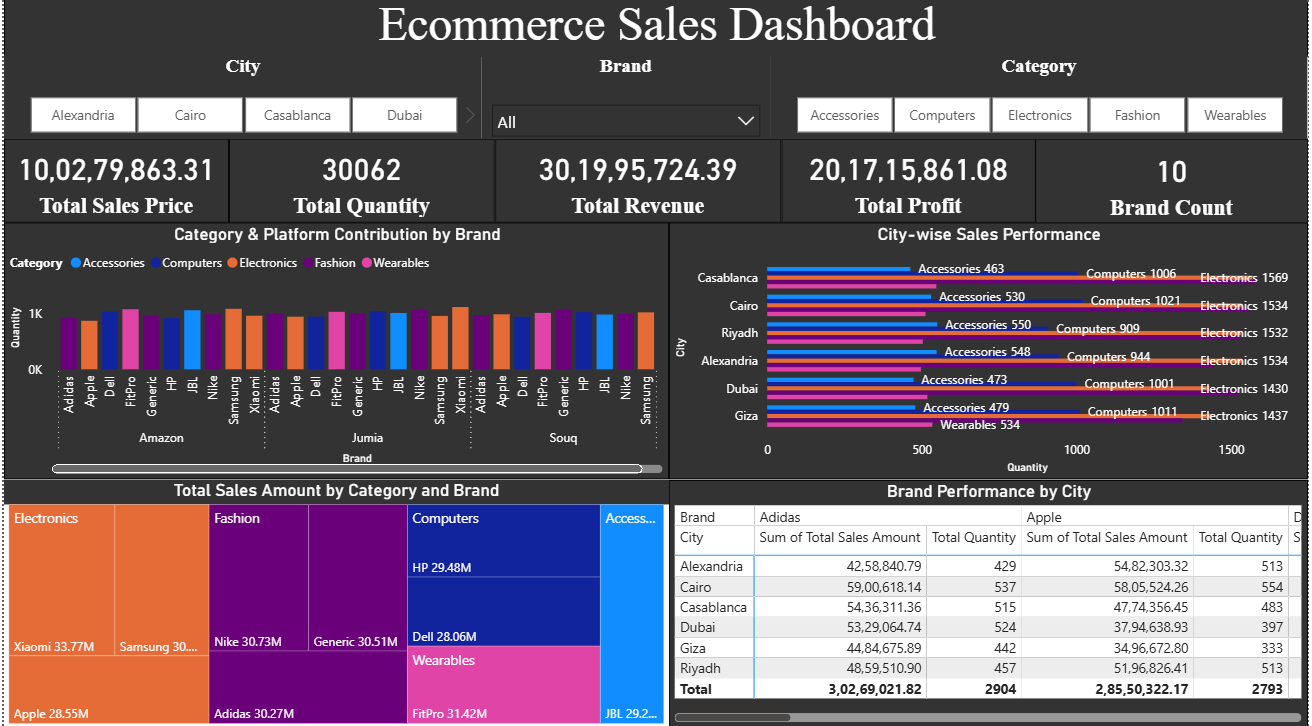

What the dashboard file says about the page in this screenshot:
{"tool":"powerbi","page":{"name":"Page 1","canvas":[1280,720],"ordinal":0},"visuals":[{"type":"card","title":"Total Sales","fields":{"Values":["Sum(Ecommerce.Price)"]},"box":[0,141.1,220.9,82.7],"z":0},{"type":"card","title":"Total Sales","fields":{"Values":["Sum(ecommerce_10000.Quantity)"]},"box":[220.9,141.1,260.8,82.7],"z":1000},{"type":"card","title":"Total Sales","fields":{"Values":["Ecommerce.Total Revenue"]},"box":[481.8,141.1,280.8,82.7],"z":2000},{"type":"card","title":"Total Sales","fields":{"Values":["Ecommerce.Total Profit"]},"box":[762.6,141.1,249.4,82.7],"z":3000},{"type":"card","title":"Total Sales","fields":{"Values":["Count(Ecommerce.Brand)"]},"box":[1012,141.1,268,85.5],"z":4000},{"type":"clusteredBarChart","title":"City-wise Sales Performance","fields":{"Category":["Ecommerce.City"],"Series":["Ecommerce.Category"],"Y":["Ecommerce.Total Quantity"]},"box":[652.8,223.8,627.2,252.3],"z":5000},{"type":"columnChart","title":"Category & Platform Contribution by Brand","fields":{"Category":["Ecommerce.Platform","Ecommerce.Brand"],"Series":["Ecommerce.Category"],"Y":["Ecommerce.Total Quantity"]},"box":[0,223.8,652.8,252.3],"z":6000},{"type":"pivotTable","title":"Brand Performance by City","fields":{"Rows":["Ecommerce.City"],"Columns":["Ecommerce.Brand"],"Values":["Sum(Ecommerce.Total Sales Amount)","Ecommerce.Total Quantity"]},"box":[652.8,476.1,627,244.2],"z":7000},{"type":"treemap","title":"Total Sales Amount by Category and Brand","fields":{"Details":["Ecommerce.Brand"],"Values":["Sum(Ecommerce.Total Sales Amount)"],"Group":["Ecommerce.Category"]},"box":[0,476.1,652.8,244.2],"z":8000},{"type":"textbox","title":"Ecommerce Sales Dashboard","box":[0,1.2,1279.8,58.9],"z":9000},{"type":"slicer","title":"City","fields":{"Values":["Ecommerce.City"]},"box":[0,58.4,469,82.7],"z":10000},{"type":"slicer","title":"Brand","fields":{"Values":["Ecommerce.Brand"]},"box":[469,58.4,283.7,82.7],"z":11000},{"type":"slicer","title":"Category","fields":{"Values":["Ecommerce.Category"]},"box":[752.6,58.4,527.4,82.7],"z":12000}]}

Visuals, with their boxes in screenshot pixels (x1, y1, x2, y2), scaled from the page's 1280x720 canvas onto the 1312x726 screenshot:
"Total Sales" card: (left=0, top=142, right=226, bottom=226)
"Total Sales" card: (left=226, top=142, right=494, bottom=226)
"Total Sales" card: (left=494, top=142, right=782, bottom=226)
"Total Sales" card: (left=782, top=142, right=1037, bottom=226)
"Total Sales" card: (left=1037, top=142, right=1311, bottom=228)
"City-wise Sales Performance" clusteredBarChart: (left=669, top=226, right=1311, bottom=480)
"Category & Platform Contribution by Brand" columnChart: (left=0, top=226, right=669, bottom=480)
"Brand Performance by City" pivotTable: (left=669, top=480, right=1311, bottom=725)
"Total Sales Amount by Category and Brand" treemap: (left=0, top=480, right=669, bottom=725)
"Ecommerce Sales Dashboard" textbox: (left=0, top=1, right=1311, bottom=61)
"City" slicer: (left=0, top=59, right=481, bottom=142)
"Brand" slicer: (left=481, top=59, right=772, bottom=142)
"Category" slicer: (left=771, top=59, right=1311, bottom=142)
